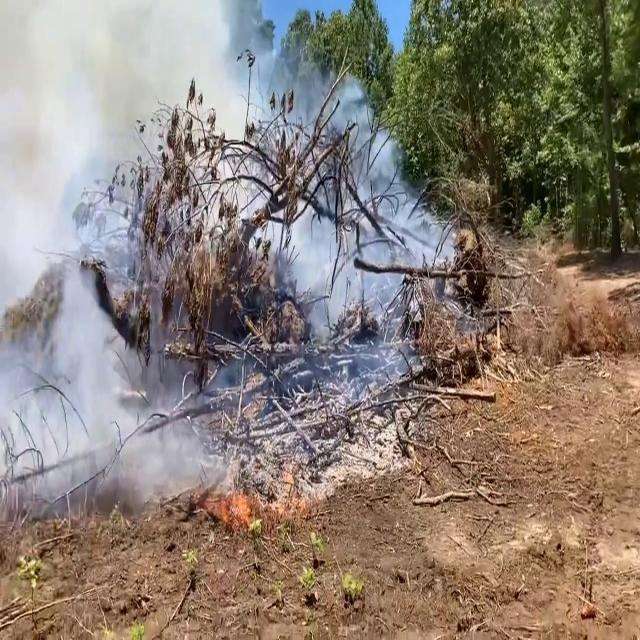Smoke: (0, 1, 214, 526), (270, 47, 452, 365)
